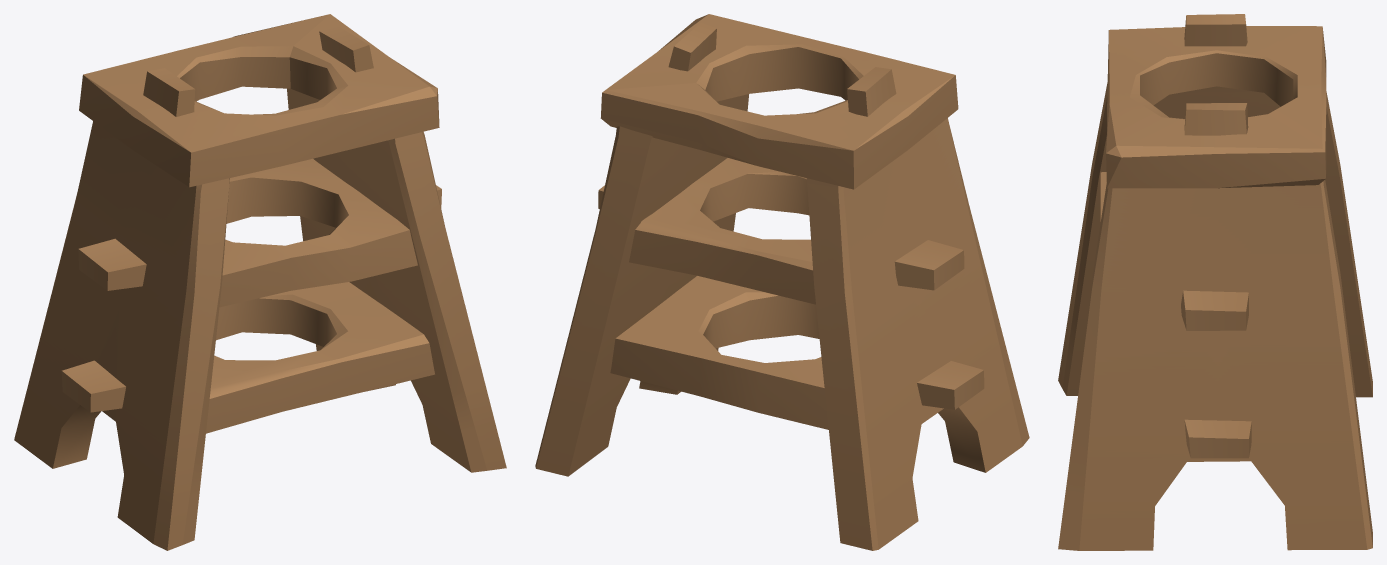
The model's file is BlacksmithTool_E.fbx.
3 views of the same model, side by side, from view 1: azimuth 30°, elevation 25°; view 2: azimuth 150°, elevation 25°; view 3: azimuth 270°, elevation 25° (orthographic).
Parts seen in each view (by area): view 1: BlacksmithTool_E; view 2: BlacksmithTool_E; view 3: BlacksmithTool_E.
Boxes of the visible parts, x1,y1,x2,y2 form: BlacksmithTool_E: [14, 14, 506, 550]; BlacksmithTool_E: [535, 14, 1029, 550]; BlacksmithTool_E: [1058, 14, 1372, 550].
Bounding box in the file's own units: 84.55 × 85.86 × 60.85.
